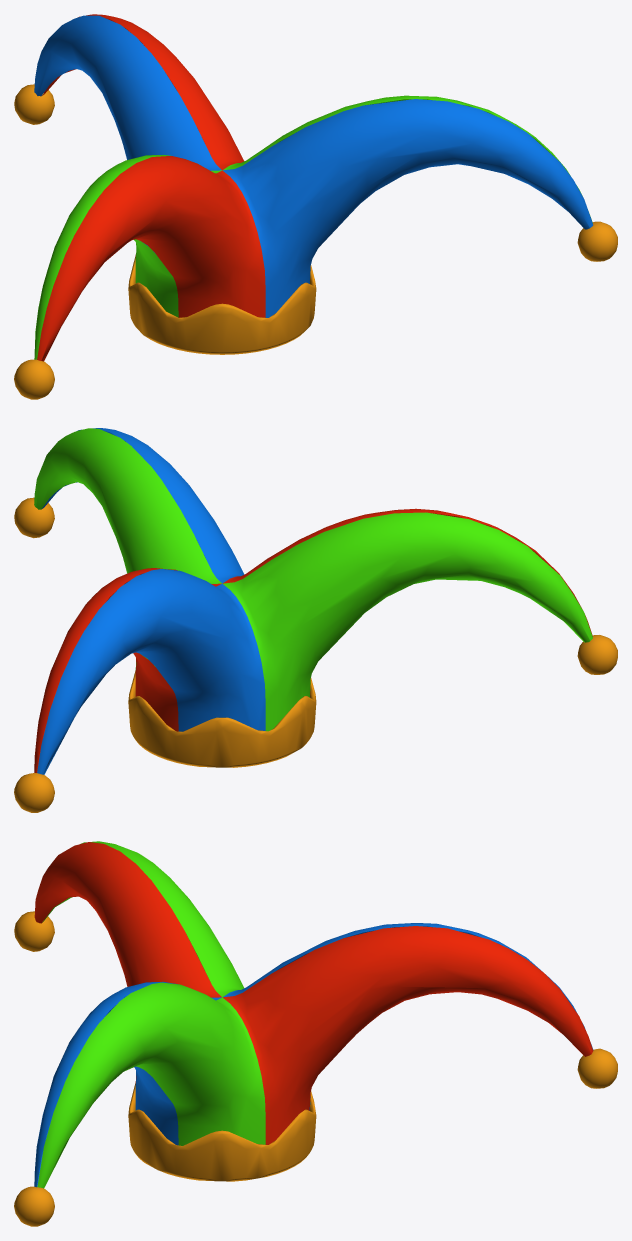
The model's file is jesterhat.glb.
3 views of the same model, one above another, from view 1: azimuth 30°, elevation 25°; view 2: azimuth 150°, elevation 25°; view 3: azimuth 270°, elevation 25° (orthographic).
Parts seen in each view (by area): view 1: Object_6, Object_4, Object_8, Object_5, Object_14, Object_10, Object_12; view 2: Object_5, Object_6, Object_8, Object_4, Object_12, Object_14, Object_10; view 3: Object_4, Object_5, Object_8, Object_6, Object_10, Object_12, Object_14.
Part boxes in pixels (x1,y1,x2,y2): Object_6: (34, 15, 593, 317); Object_4: (37, 14, 265, 361); Object_8: (128, 254, 316, 354); Object_5: (34, 95, 592, 359); Object_14: (14, 359, 54, 399); Object_10: (577, 221, 617, 261); Object_12: (14, 84, 54, 124); Object_5: (34, 428, 592, 731); Object_6: (37, 428, 265, 774); Object_8: (128, 670, 316, 767); Object_4: (34, 508, 592, 772); Object_12: (14, 773, 54, 812); Object_14: (577, 635, 617, 674); Object_10: (14, 497, 54, 538); Object_4: (34, 842, 593, 1144); Object_5: (37, 841, 265, 1188); Object_8: (128, 1083, 316, 1181); Object_6: (34, 923, 593, 1187); Object_10: (14, 1186, 54, 1226); Object_12: (577, 1048, 617, 1088); Object_14: (14, 911, 54, 951).
Bounding box in the file's own units: 11.13 × 3.87 × 9.73.
